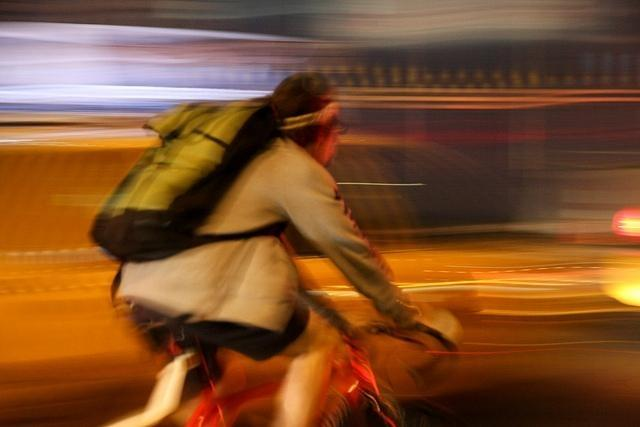bicycle: (101, 302, 412, 427)
